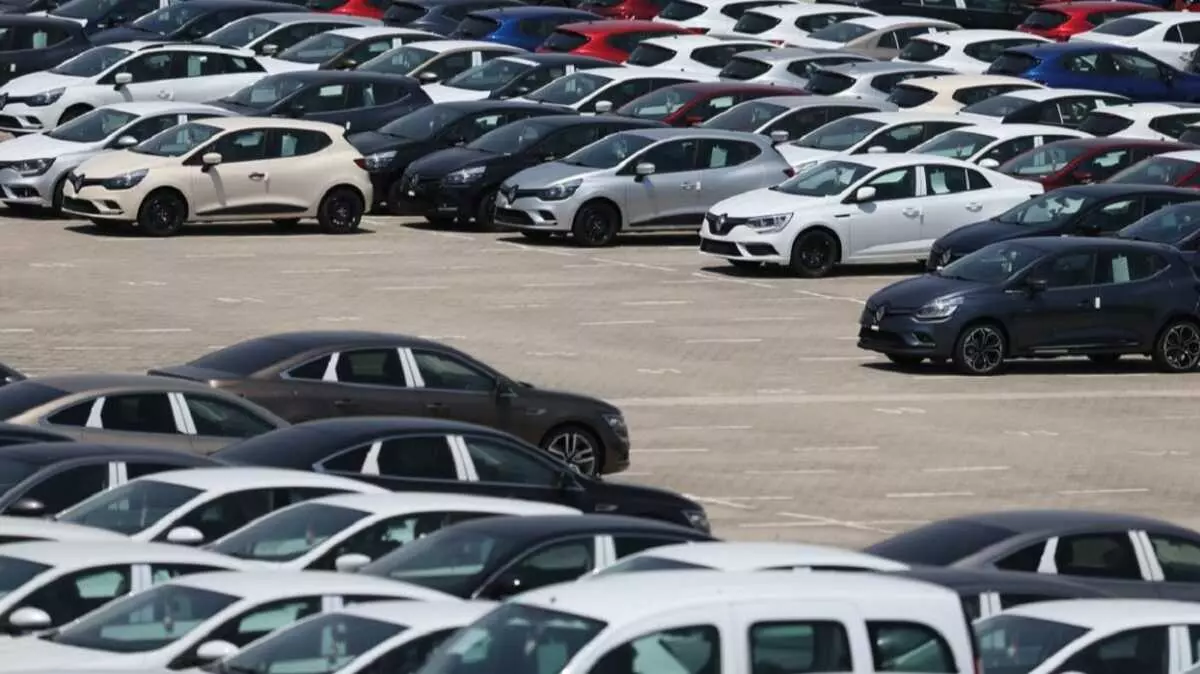Car: (149, 330, 631, 479), (215, 416, 711, 533), (419, 571, 978, 674), (858, 235, 1200, 378), (0, 571, 466, 674), (699, 151, 1043, 277), (63, 116, 372, 236), (494, 128, 795, 246), (398, 116, 674, 229), (359, 515, 725, 600), (864, 509, 1200, 600), (208, 493, 584, 574), (55, 466, 385, 546), (0, 103, 241, 212), (346, 100, 578, 210), (0, 42, 267, 136), (0, 541, 264, 636), (927, 184, 1200, 271), (178, 600, 496, 674), (0, 375, 288, 454), (0, 441, 225, 518), (975, 599, 1200, 674), (217, 71, 431, 133), (988, 42, 1200, 104), (775, 111, 992, 171), (576, 542, 908, 580), (886, 566, 1119, 620), (89, 0, 304, 49), (1000, 138, 1200, 189), (607, 81, 816, 128), (424, 53, 618, 103), (195, 12, 389, 62), (698, 95, 899, 143), (514, 67, 708, 115), (264, 26, 457, 74), (906, 124, 1103, 168), (782, 16, 967, 60), (1070, 11, 1200, 73), (353, 40, 526, 86), (450, 6, 614, 52), (891, 29, 1058, 73), (539, 19, 700, 64), (957, 88, 1130, 128), (626, 34, 776, 80), (725, 4, 889, 46), (1110, 201, 1200, 276), (884, 74, 1051, 113), (719, 48, 880, 88), (0, 14, 89, 85), (1013, 0, 1161, 41), (840, 0, 1049, 29), (805, 61, 954, 101), (652, 0, 808, 36), (383, 0, 536, 35), (50, 0, 183, 36), (1079, 103, 1200, 141), (1103, 149, 1200, 191), (0, 515, 124, 546), (0, 422, 76, 448), (304, 0, 393, 21), (575, 0, 667, 20), (0, 0, 70, 15), (1178, 121, 1200, 149), (0, 364, 26, 387)
